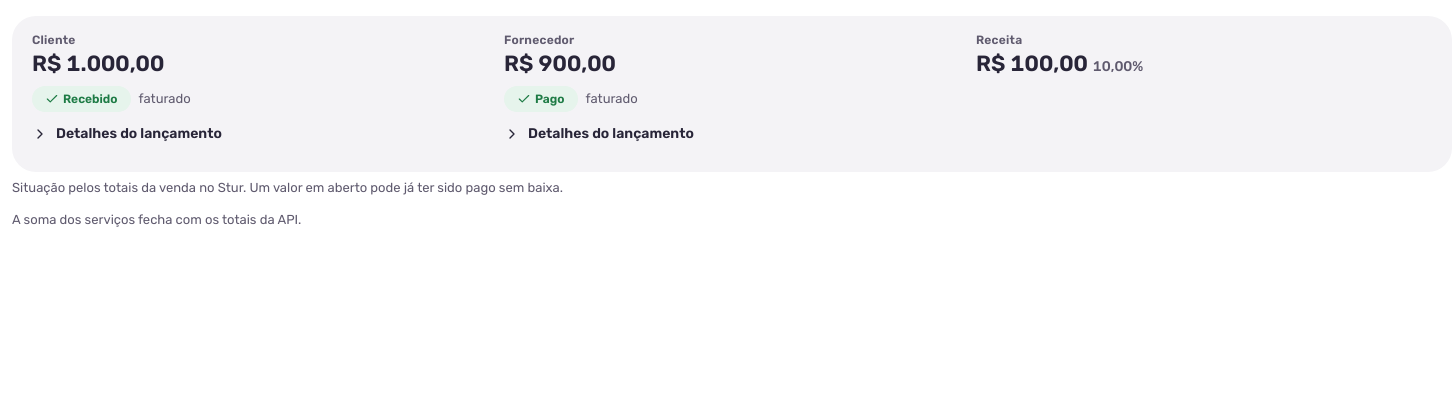
Test: lançamentos › 'Detalhes do lançamento' mostra o pagante e o que a linha não mostra
Step 1. Click the heading "Detalhes do lançamento" below "Recebido" → (127, 134), box [32, 125, 222, 142]
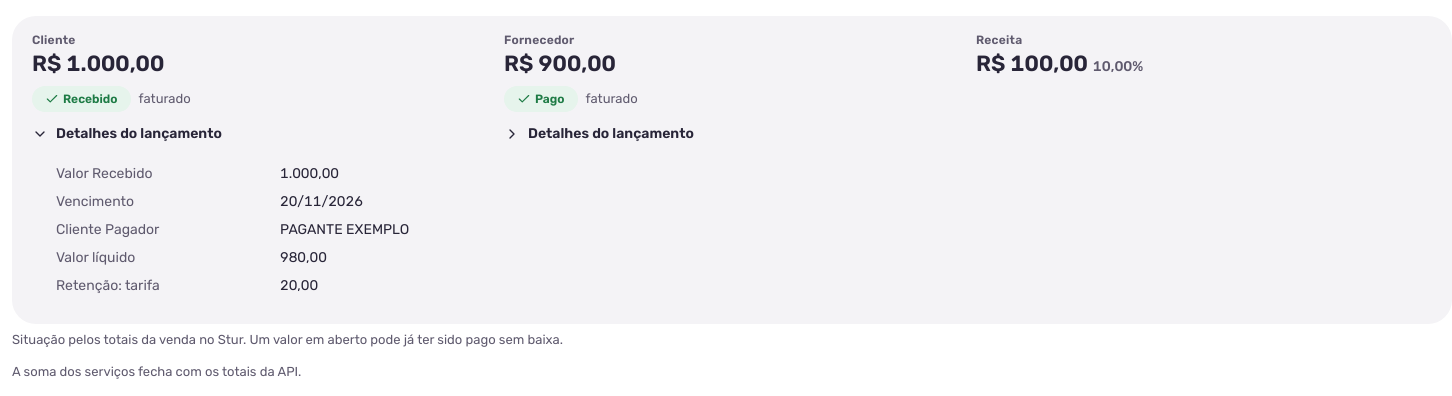
Check: the text "PAGANTE EXEMPLO" is shown, box [280, 221, 409, 238]
Check: the text "980,00" is shown, box [280, 249, 327, 266]
Check: the text "20,00" is shown, box [280, 277, 318, 294]
